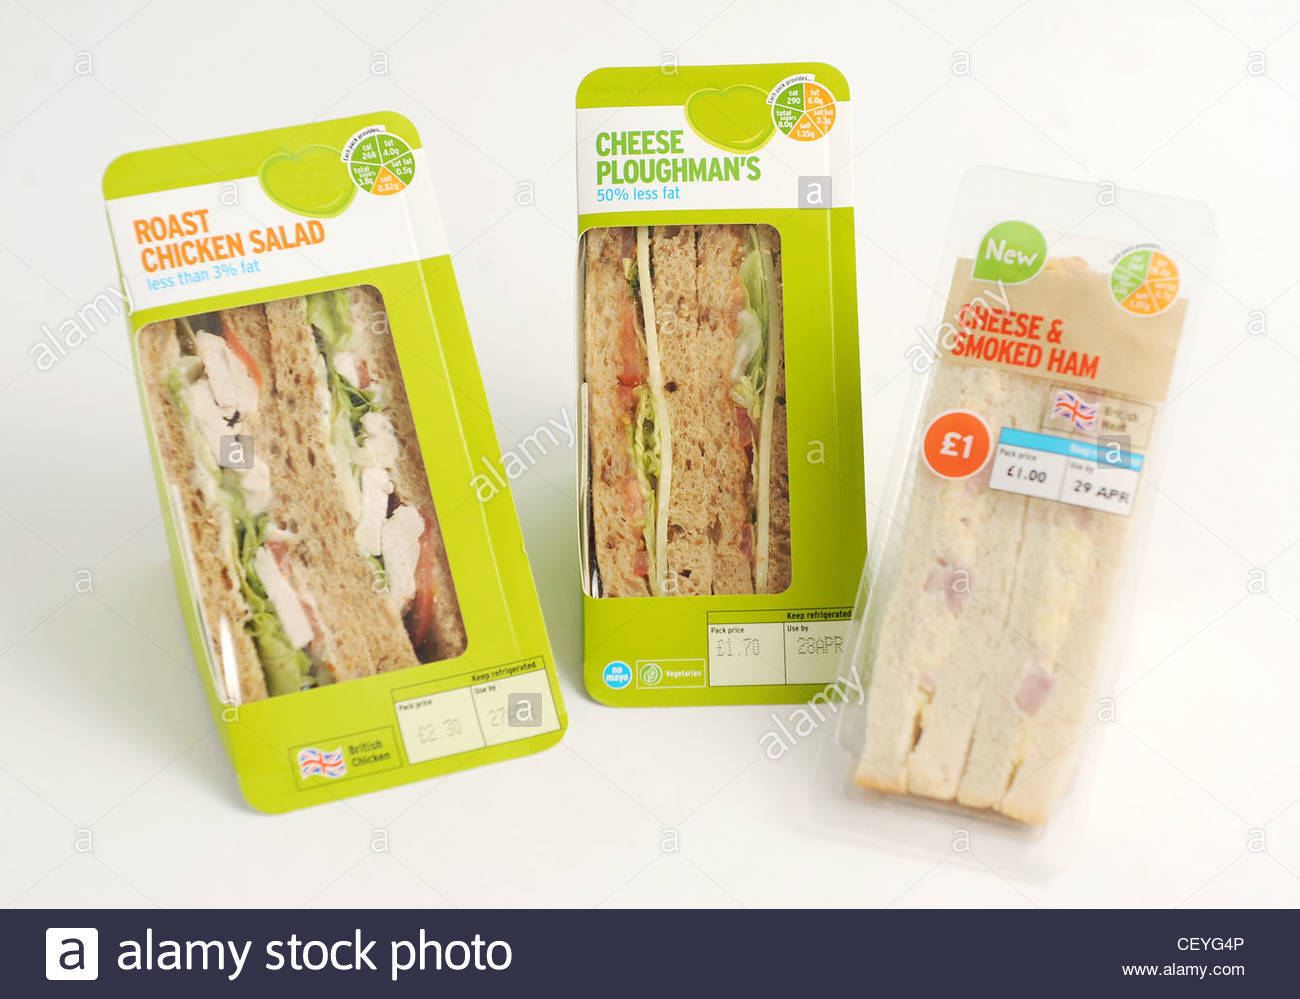sandwich: (95, 109, 578, 816), (837, 185, 1182, 857), (558, 58, 892, 750)
